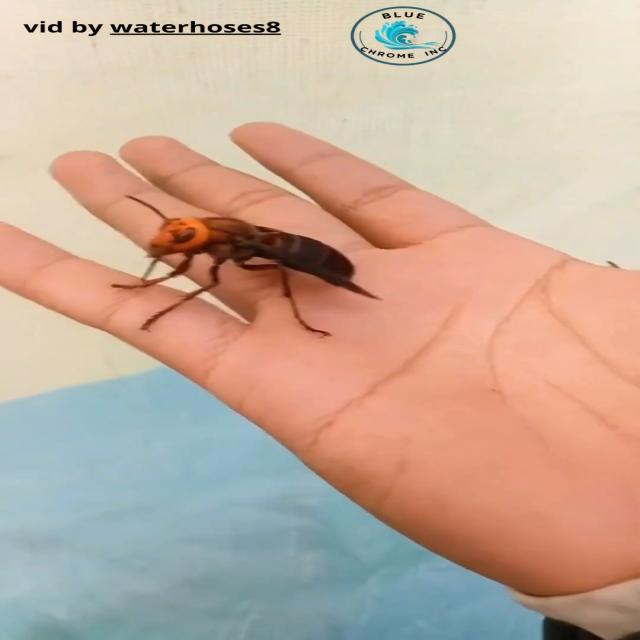Hornets: (108, 194, 381, 338)
